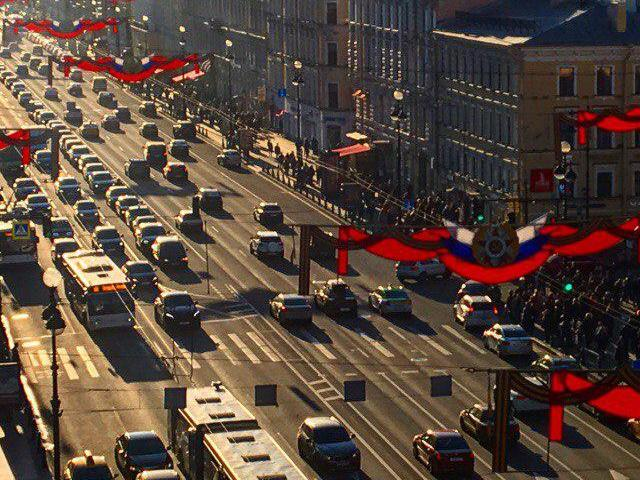bus: (165, 381, 330, 480), (62, 248, 140, 334), (0, 201, 44, 266)
